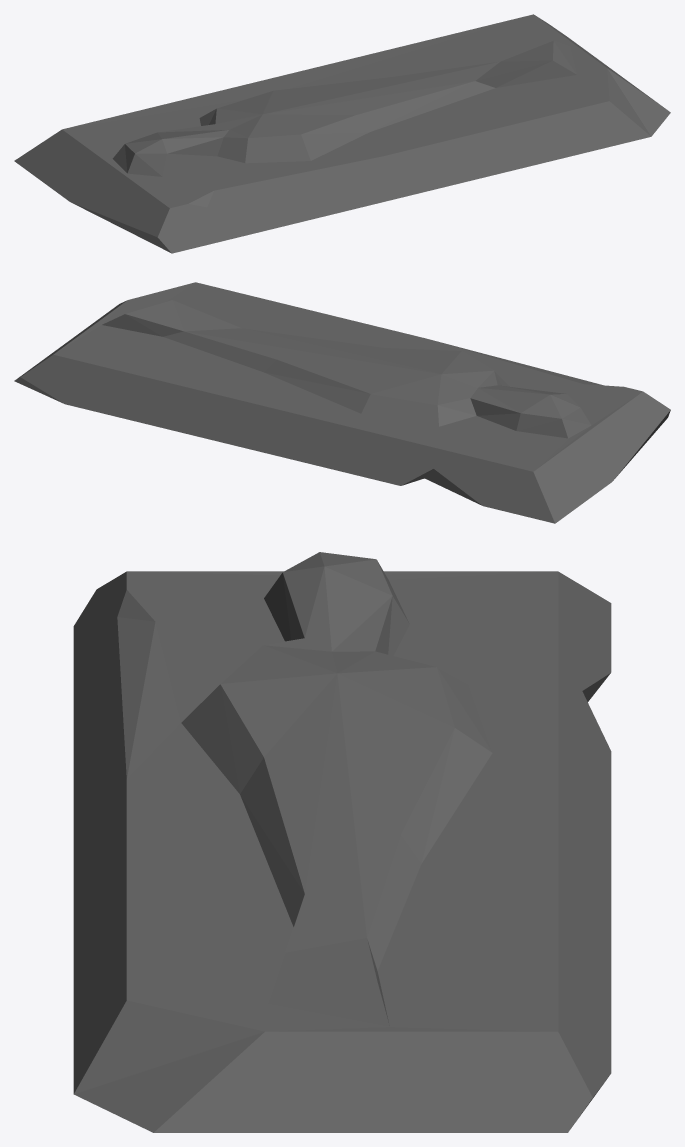
File: Grave_Top.fbx
The picture shows the model from 3 angles, top to bottom: view 1: azimuth 30°, elevation 25°; view 2: azimuth 150°, elevation 25°; view 3: azimuth 270°, elevation 25°; orthographic projection. The views are drawn at different scales.
Visible parts, largest first — view 1: Grave_Top; view 2: Grave_Top; view 3: Grave_Top.
Boxes of the visible parts, bbox=[...] form: Grave_Top: bbox=[14, 14, 670, 253]; Grave_Top: bbox=[14, 282, 670, 523]; Grave_Top: bbox=[73, 552, 611, 1132].
Size of the model in its own units: 677 by 66.6 by 290.
